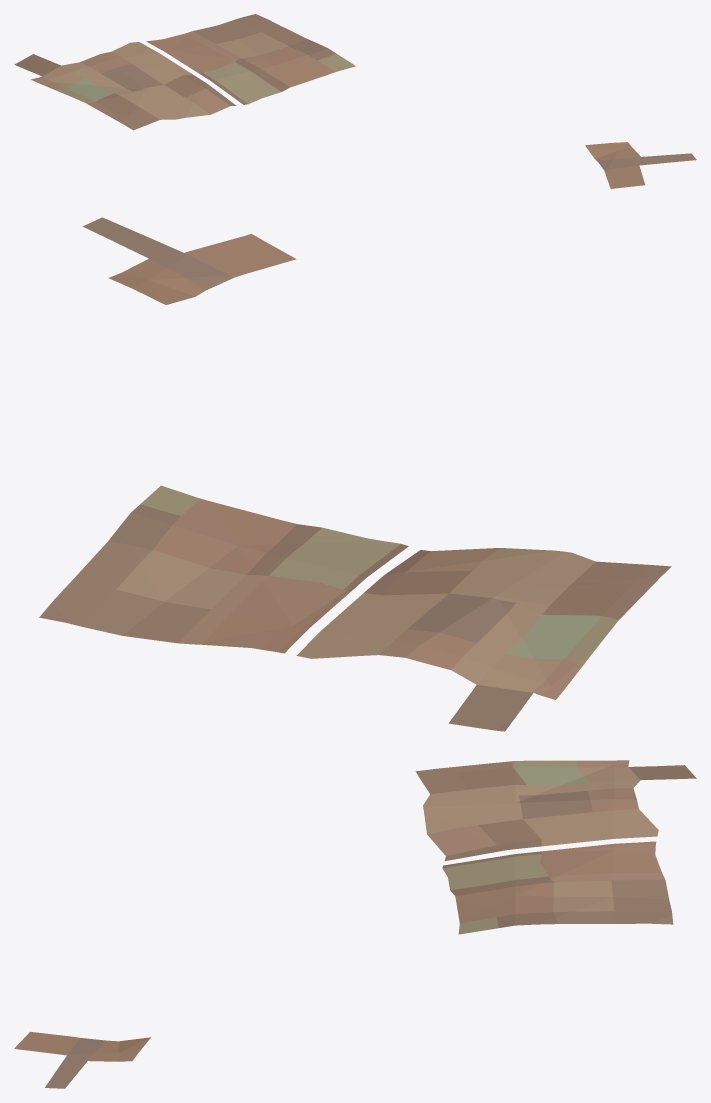
File: farm_-12_-18_soil.glb
3 renders of one model, top to bottom at view 1: azimuth 30°, elevation 25°; view 2: azimuth 150°, elevation 25°; view 3: azimuth 270°, elevation 25°, orthographic. The views are drawn at different scales.
Visible parts, largest first — view 1: geometry_0; view 2: geometry_0; view 3: geometry_0.
Part boxes in pixels (<box>): geometry_0: <box>14,14,696,188</box>; geometry_0: <box>39,217,671,731</box>; geometry_0: <box>14,760,696,1088</box>.
Size of the model in its own units: 556 by 44.02 by 551.
